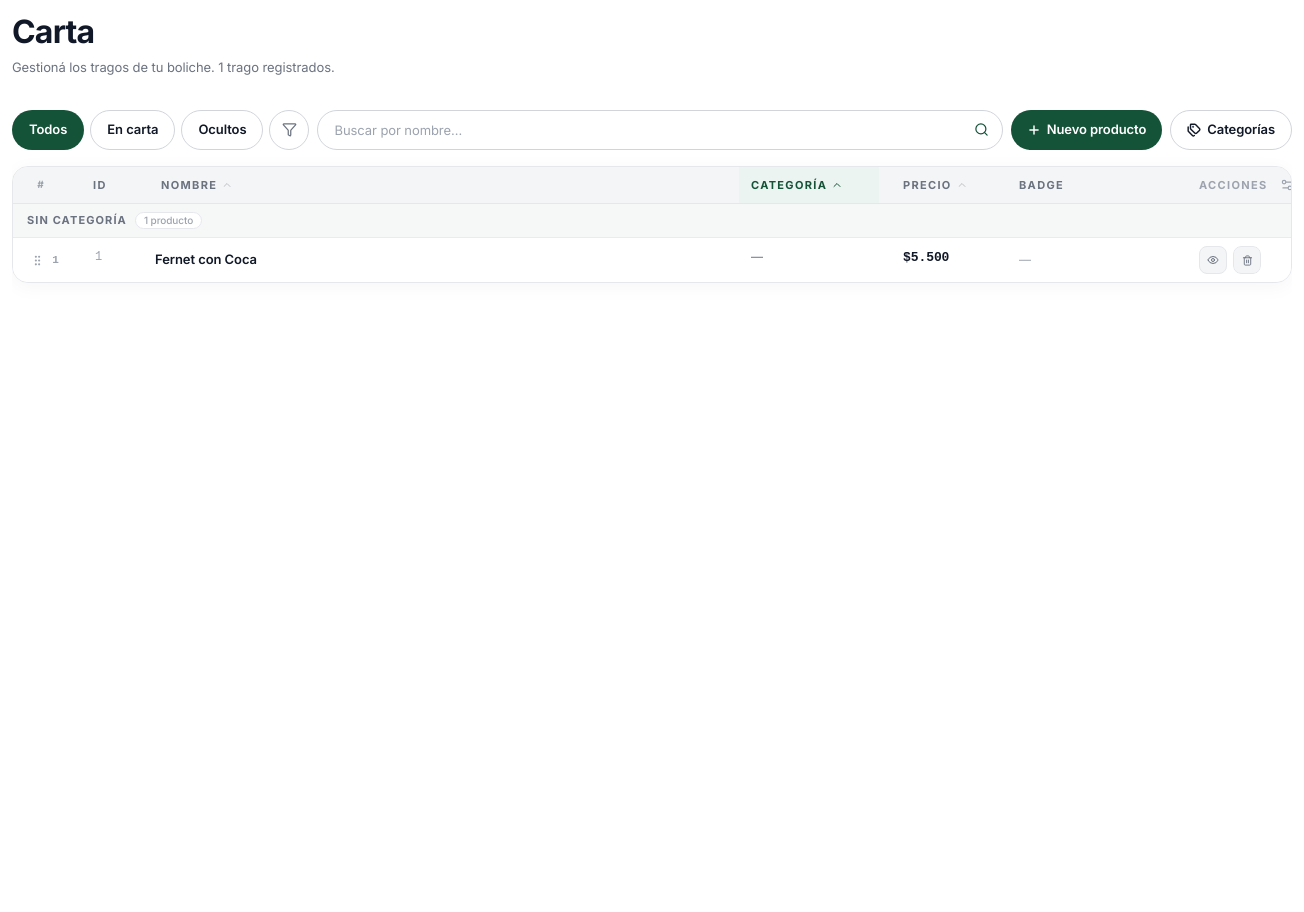
Test: CartaSection › muestra un toast de error si falla el toggle de disponibilidad
Check: the text "Fernet con Coca" is shown, box x1=155 y1=251 x2=257 y2=267
Click the button titled "Ocultar de la carta" at (1213, 260), box x1=1199 y1=246 x2=1227 y2=274
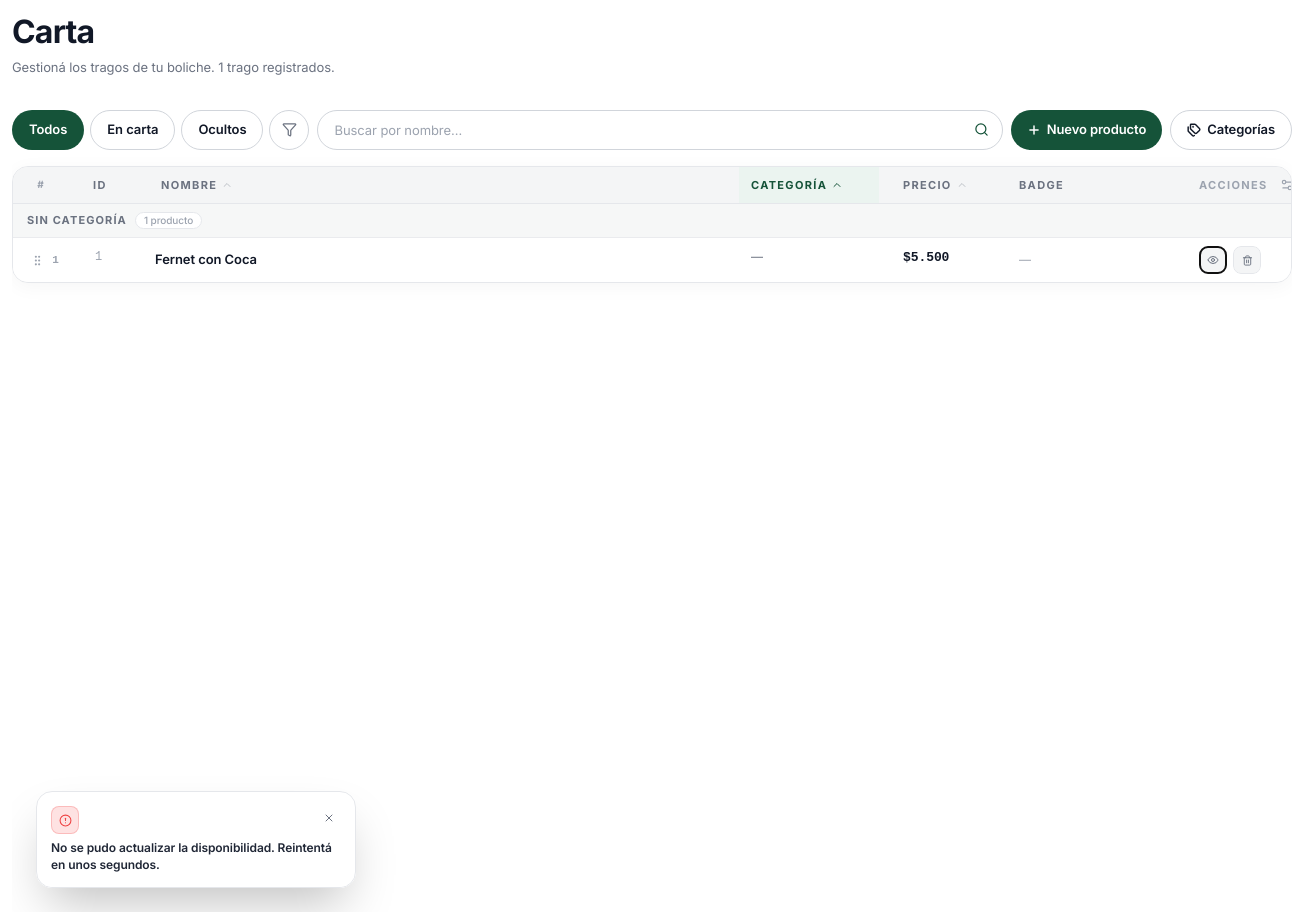
Check: the text "No se pudo actualizar la disponibilidad" is shown, box x1=51 y1=840 x2=332 y2=872
